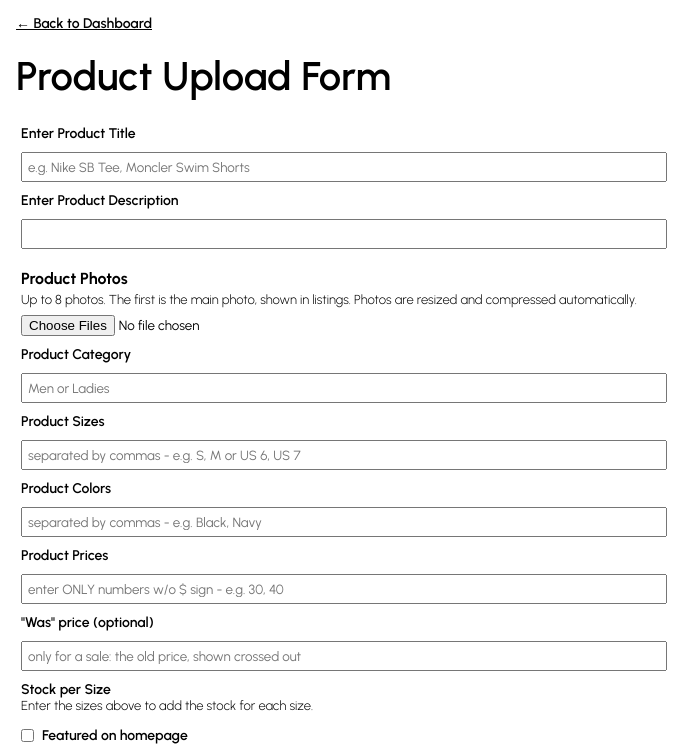
Test: AdminUploadProduct › shows a stock box for each size as they're typed
The image size is (684, 753).
Expected: the text "Enter the sizes above to add the stock for each size." is shown, [21,698,313,713]
Type "S, M, L" into the field with id "size".
click(344, 455); type("S, M, L")  # box [21,440,667,470]
(page scrolled)
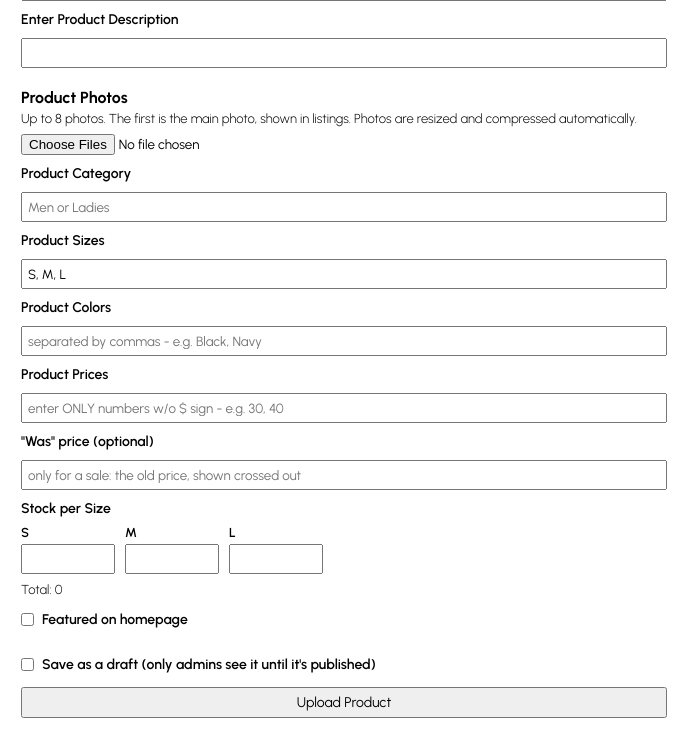
Type "3" into the number field named "Stock for size M".
click(172, 559); type("3")  # box [125,544,219,574]
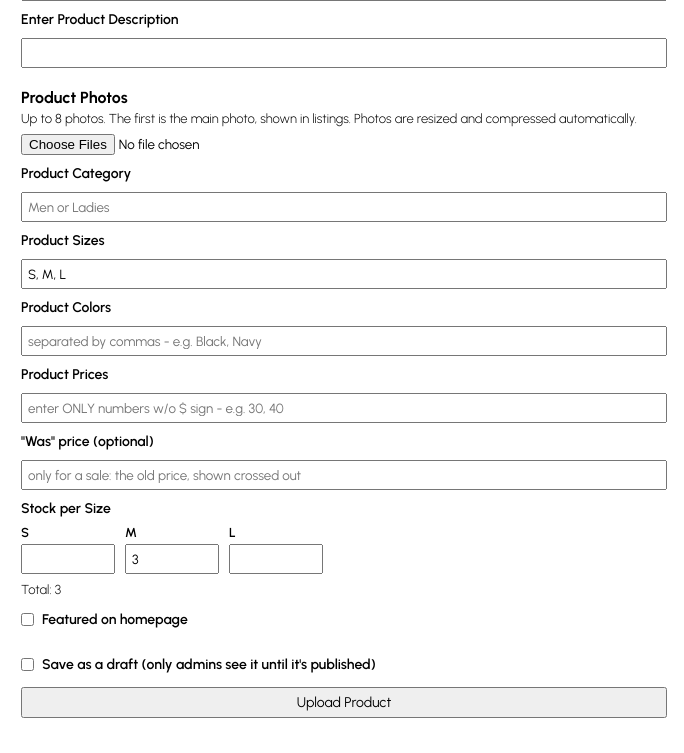
Now the text "Total: 3" is shown, box [21,582,61,597]
